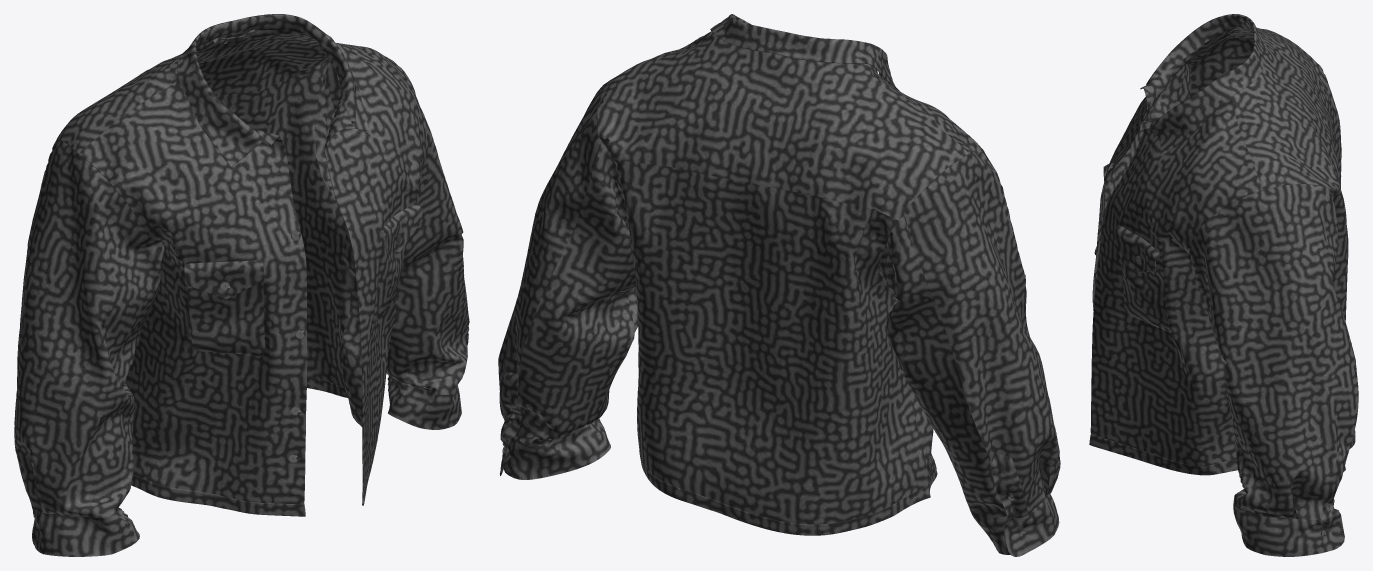
Rendered from jacket-transformed.glb.
3 renders of one model, left to right at view 1: azimuth 30°, elevation 25°; view 2: azimuth 150°, elevation 25°; view 3: azimuth 270°, elevation 25°, orthographic. The views are drawn at different scales.
Parts seen in each view (by area): view 1: JacketOpenNoTextures.004; view 2: JacketOpenNoTextures.004; view 3: JacketOpenNoTextures.004.
Part boxes in pixels (x1,y1,x2,y2): JacketOpenNoTextures.004: (14,14,469,556); JacketOpenNoTextures.004: (498,14,1060,556); JacketOpenNoTextures.004: (1089,14,1358,556).
Bounding box in the file's own units: 0.652 × 0.5972 × 0.3408.
Materials: 1 (1 with a texture image).
